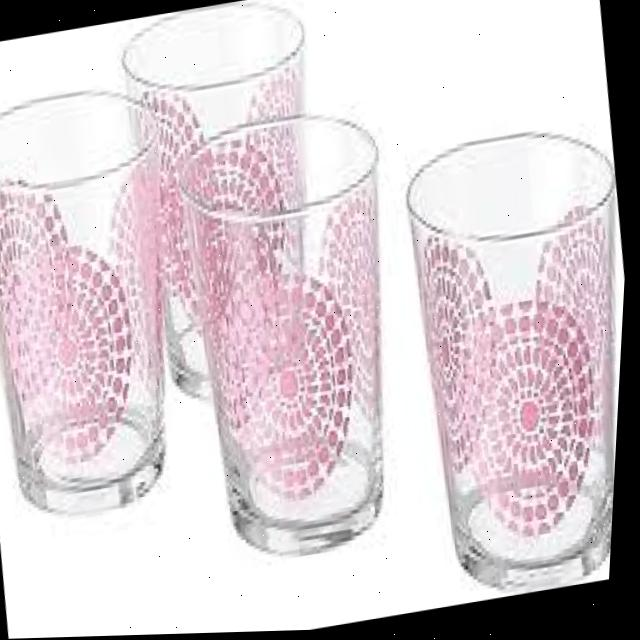Dry: (158, 96, 439, 574)
